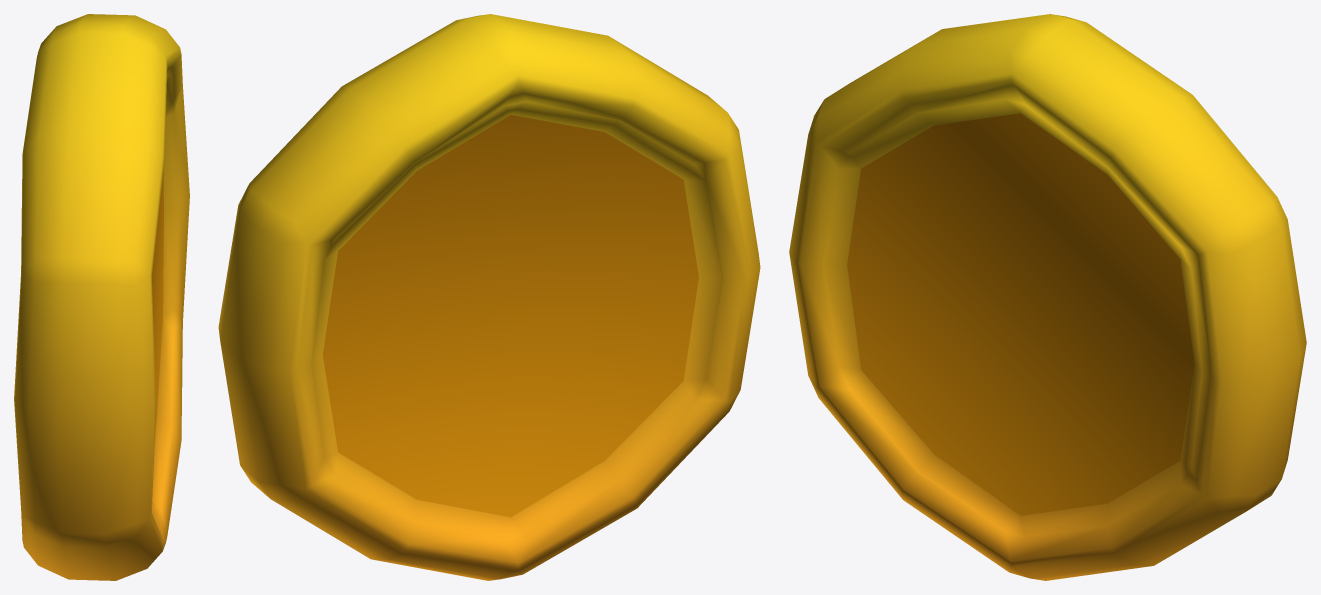
File: Pickup.fbx
3 views of the same model, side by side, from view 1: azimuth 30°, elevation 25°; view 2: azimuth 150°, elevation 25°; view 3: azimuth 270°, elevation 25° (orthographic).
Parts seen in each view (by area): view 1: Pickup; view 2: Pickup; view 3: Pickup.
Part boxes in pixels (bbox=[...]): Pickup: bbox=[14, 14, 189, 580]; Pickup: bbox=[218, 14, 760, 580]; Pickup: bbox=[789, 14, 1306, 580].
Size of the model in its own units: 115 by 172 by 148.
